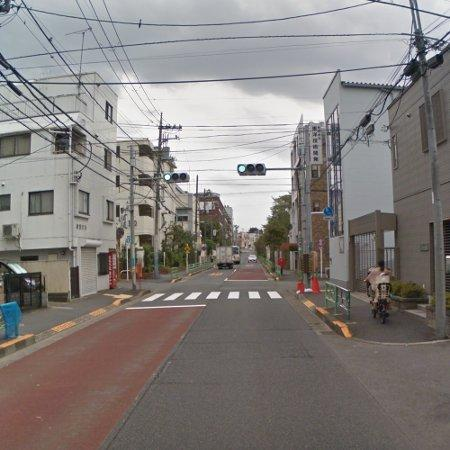crosswalks: (142, 291, 286, 301)
